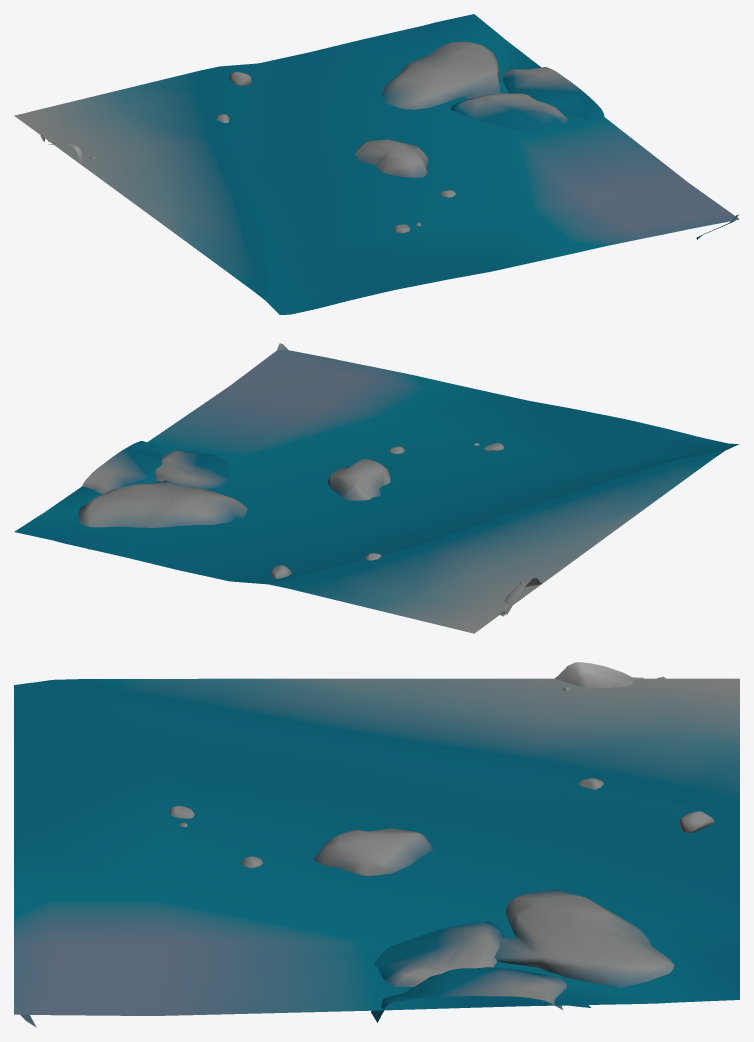
3 renders of one model, top to bottom at view 1: azimuth 30°, elevation 25°; view 2: azimuth 150°, elevation 25°; view 3: azimuth 270°, elevation 25°, orthographic. The views are drawn at different scales.
Visible parts, largest first — view 1: G:\FFXIV-MapTools\exports\s1f3\bg\ffxiv\sea_s1\fld\s1f3\bgpl (×7); view 2: G:\FFXIV-MapTools\exports\s1f3\bg\ffxiv\sea_s1\fld\s1f3\bgpl (×8); view 3: G:\FFXIV-MapTools\exports\s1f3\bg\ffxiv\sea_s1\fld\s1f3\bgpl (×8).
Boxes of the visible parts, x1,y1,x2,y2 form: G:\FFXIV-MapTools\exports\s1f3\bg\ffxiv\sea_s1\fld\s1f3\bgpl (×7): (14,14,739,314); G:\FFXIV-MapTools\exports\s1f3\bg\ffxiv\sea_s1\fld\s1f3\bgpl (×8): (14,350,739,633); G:\FFXIV-MapTools\exports\s1f3\bg\ffxiv\sea_s1\fld\s1f3\bgpl (×8): (14,662,739,1022).
Size of the model in its own units: 128 by 12.05 by 128.
